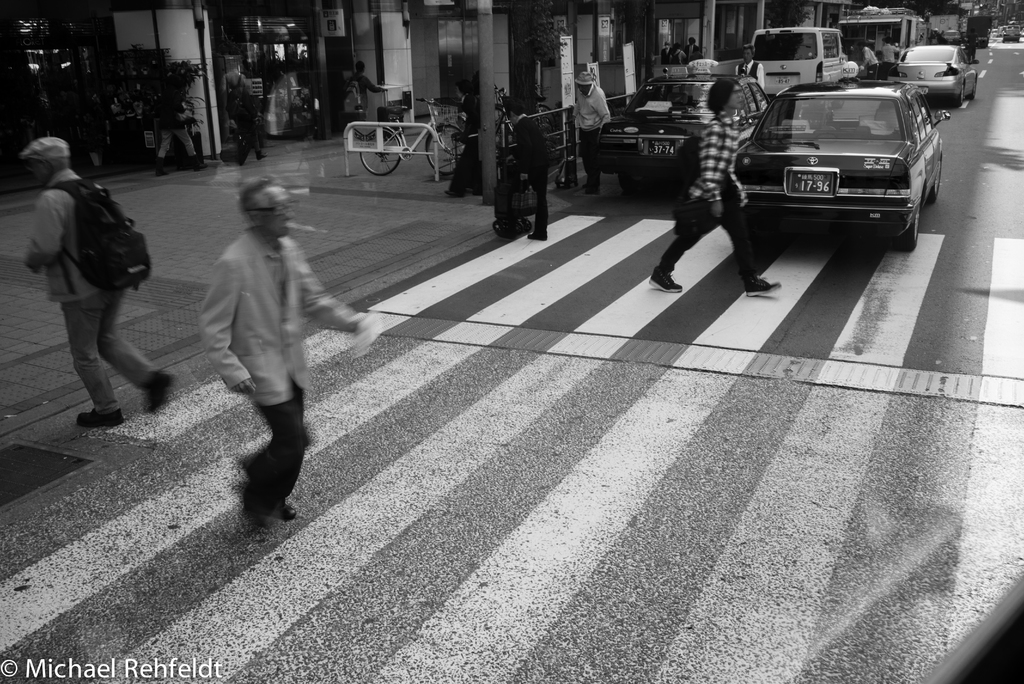Car: (731, 84, 944, 250), (591, 71, 770, 193), (896, 41, 983, 99)
